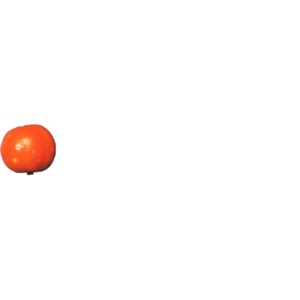tangerina: (2, 126, 55, 175)
